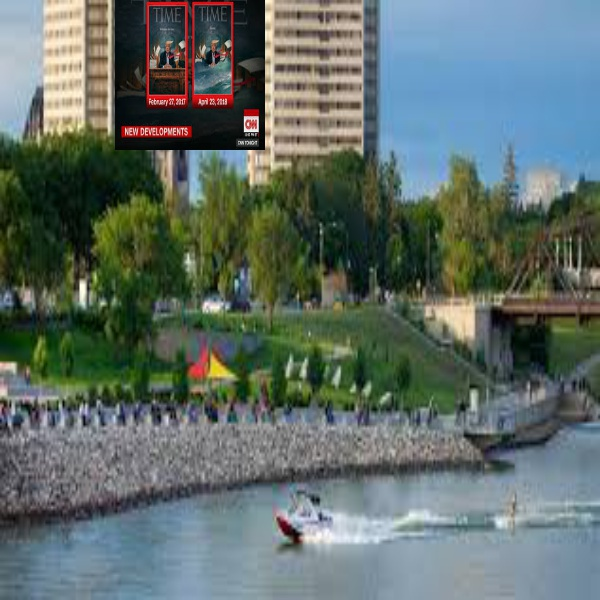time_cover: (137, 0, 236, 102), (137, 0, 190, 102)
